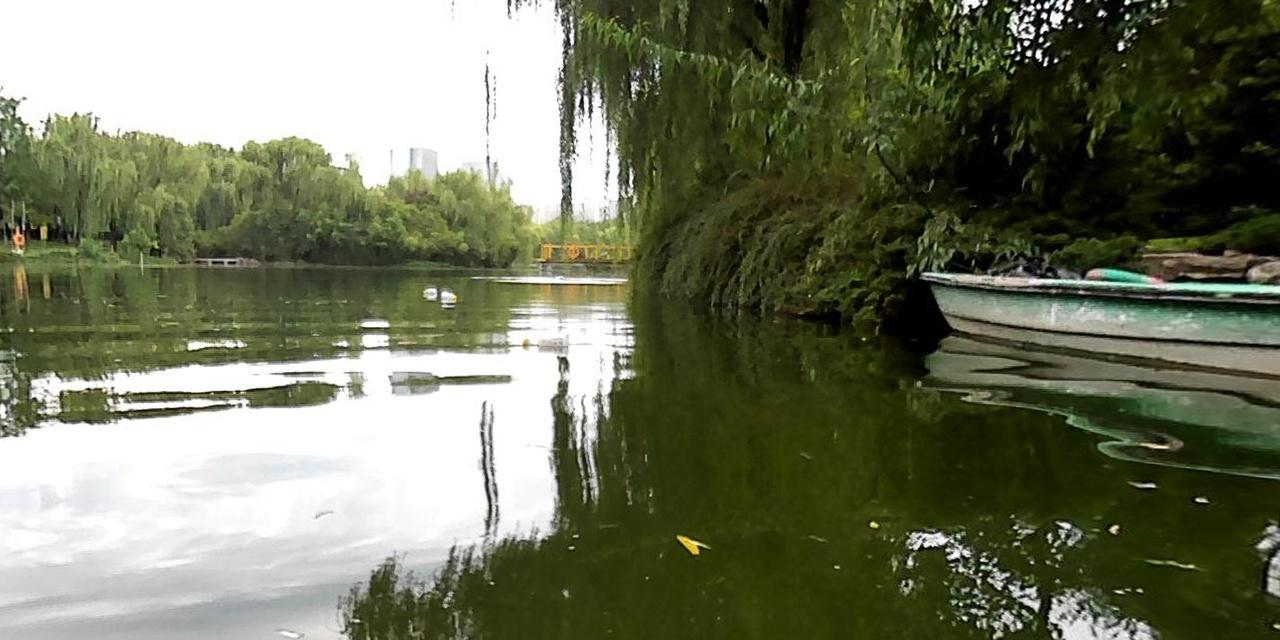bottle: (521, 334, 568, 347), (440, 290, 456, 299), (422, 287, 436, 294)
